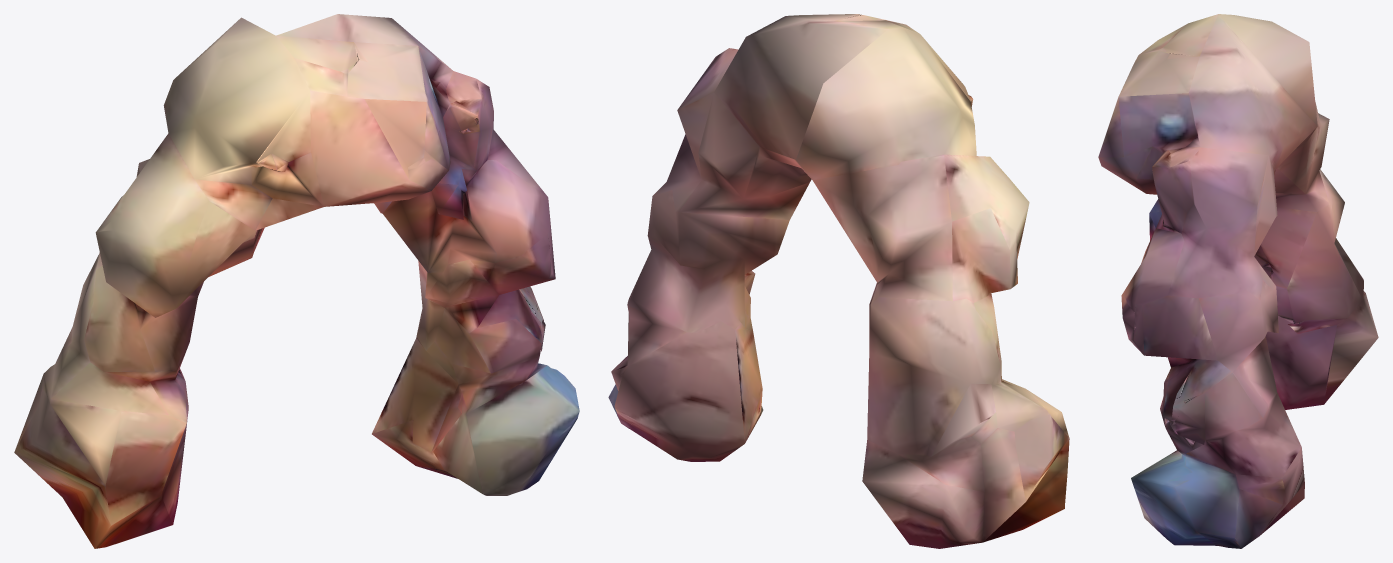
The model's file is rock_arch.glb.
The picture shows the model from 3 angles, left to right: view 1: azimuth 30°, elevation 25°; view 2: azimuth 150°, elevation 25°; view 3: azimuth 270°, elevation 25°; orthographic projection. The views are drawn at different scales.
Visible parts, largest first — view 1: tripo_node_6f806900-86fc-467f-b61e-e9d29bdb2307; view 2: tripo_node_6f806900-86fc-467f-b61e-e9d29bdb2307; view 3: tripo_node_6f806900-86fc-467f-b61e-e9d29bdb2307.
Part boxes in pixels (<box>): tripo_node_6f806900-86fc-467f-b61e-e9d29bdb2307: <box>14,14,579,548</box>; tripo_node_6f806900-86fc-467f-b61e-e9d29bdb2307: <box>608,14,1069,548</box>; tripo_node_6f806900-86fc-467f-b61e-e9d29bdb2307: <box>1098,14,1378,548</box>.
Size of the model in its own units: 0.9426 by 0.8855 by 0.5229.
1 material, 1 textured.
